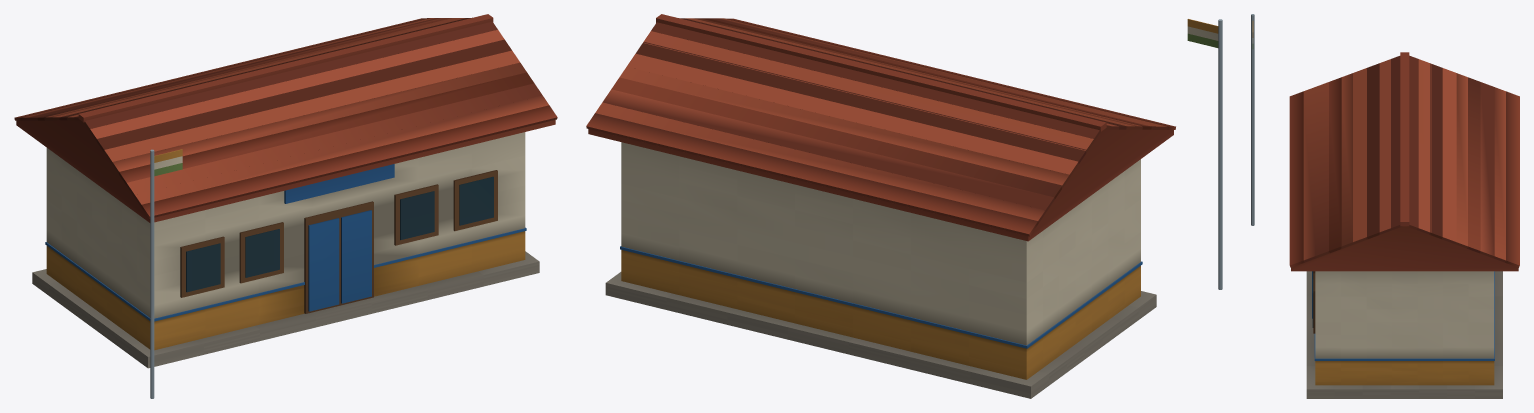
Rendered from school.glb.
3 renders of one model, left to right at view 1: azimuth 30°, elevation 25°; view 2: azimuth 150°, elevation 25°; view 3: azimuth 270°, elevation 25°, orthographic. The views are drawn at different scales.
Parts seen in each view (by area): view 1: school; view 2: school; view 3: school.
Boxes of the visible parts, x1,y1,x2,y2 form: school: [14, 14, 557, 398]; school: [586, 14, 1222, 398]; school: [1251, 14, 1519, 398].
Size of the model in its own units: 9.43 by 5.2 by 6.01.
